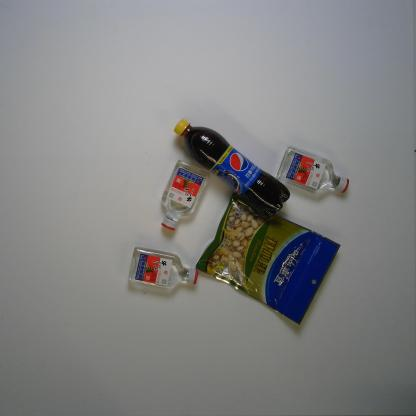Alcohol: (158, 157, 211, 232), (277, 145, 351, 198), (127, 245, 200, 290)
Dried Fruit: (191, 192, 342, 328)
Drink: (171, 116, 292, 220)
